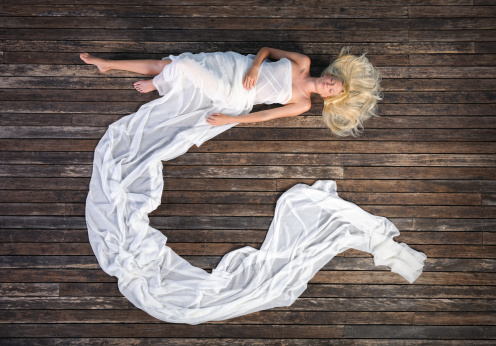deitado: (49, 21, 448, 313)
